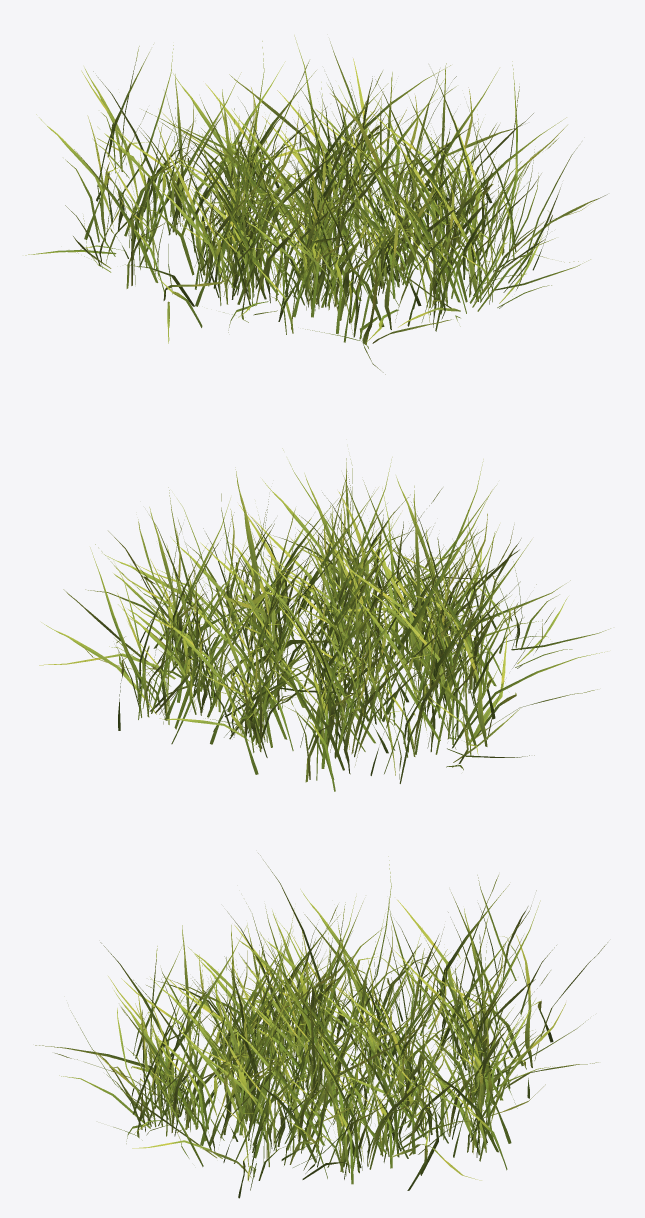
The model's file is grass_01.glb.
The picture shows the model from 3 angles, top to bottom: view 1: azimuth 30°, elevation 25°; view 2: azimuth 150°, elevation 25°; view 3: azimuth 270°, elevation 25°; orthographic projection. The views are drawn at different scales.
Visible parts, largest first — view 1: Object_2; view 2: Object_2; view 3: Object_2.
Part boxes in pixels (bbox=[...]): Object_2: bbox=[25, 35, 607, 374]; Object_2: bbox=[39, 448, 610, 791]; Object_2: bbox=[35, 853, 607, 1198].
Bounding box in the file's own units: 10.53 × 4.86 × 10.88.
Materials: 1 (1 with a texture image).
